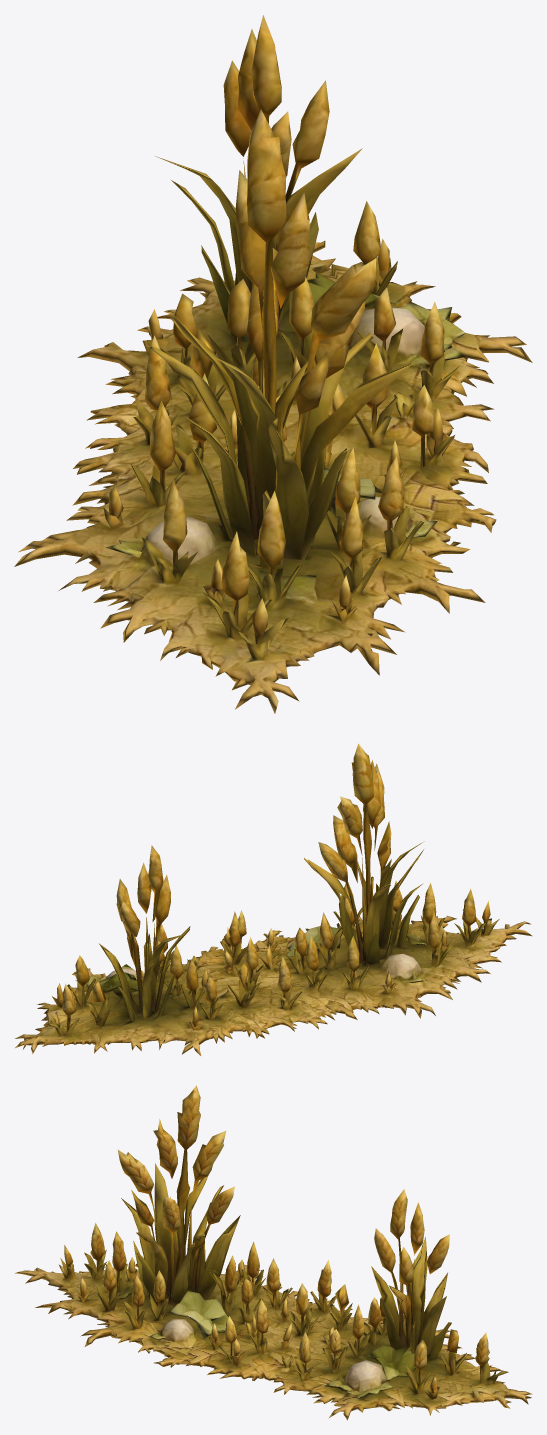
Rendered from grass_wheat_patch.glb.
3 renders of one model, top to bottom at view 1: azimuth 30°, elevation 25°; view 2: azimuth 150°, elevation 25°; view 3: azimuth 270°, elevation 25°, orthographic. The views are drawn at different scales.
Parts seen in each view (by area): view 1: tripo_node_ab3a59e5-a2bf-4ee6-bc50-e2ea930accb1; view 2: tripo_node_ab3a59e5-a2bf-4ee6-bc50-e2ea930accb1; view 3: tripo_node_ab3a59e5-a2bf-4ee6-bc50-e2ea930accb1.
Part boxes in pixels (bbox=[...]): tripo_node_ab3a59e5-a2bf-4ee6-bc50-e2ea930accb1: bbox=[14, 15, 532, 713]; tripo_node_ab3a59e5-a2bf-4ee6-bc50-e2ea930accb1: bbox=[15, 743, 532, 1055]; tripo_node_ab3a59e5-a2bf-4ee6-bc50-e2ea930accb1: bbox=[15, 1085, 532, 1420].
Size of the model in its own units: 0.7097 by 0.5006 by 1.
1 material, 1 textured.
